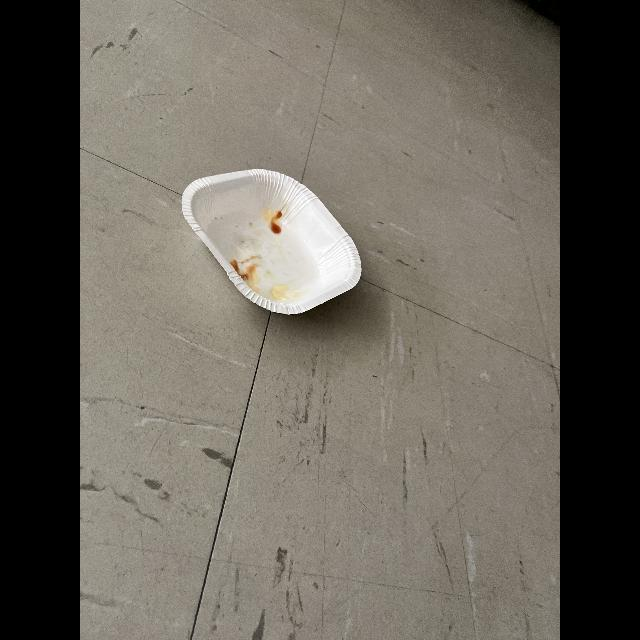cardboard_bowl: (166, 161, 370, 335)
